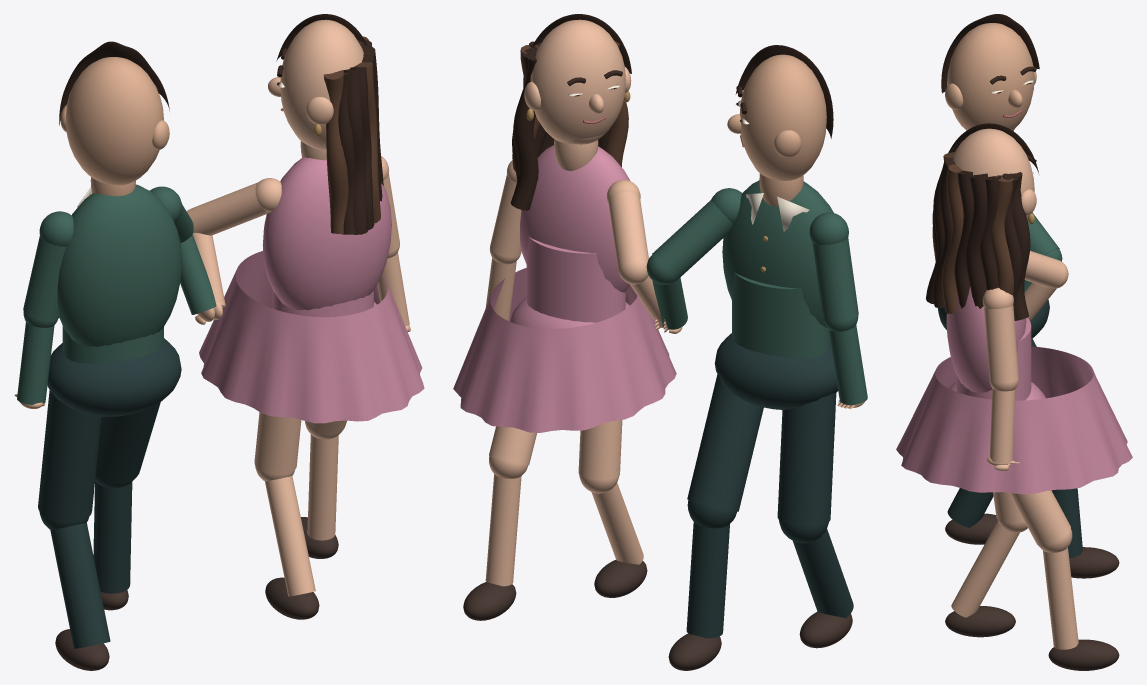
The model's file is walking-cast.glb.
3 views of the same model, side by side, from view 1: azimuth 30°, elevation 25°; view 2: azimuth 150°, elevation 25°; view 3: azimuth 270°, elevation 25° (orthographic). The views are drawn at different scales.
Parts seen in each view (by area): view 1: SF3D_Walk_shahaf_skirt, SF3D_Walk_neria_torso, SF3D_Walk_shahaf_head, SF3D_Walk_shahaf_torso, SF3D_Walk_neria_head, SF3D_Walk_neria_hip, SF3D_Walk_neria_left_thigh, SF3D_Walk_neria_left_shin, SF3D_Walk_neria_right_shin, SF3D_Walk_neria_right_thigh, SF3D_Walk_shahaf_left_shin, SF3D_Walk_shahaf_right_shin (+14 smaller); view 2: SF3D_Walk_shahaf_skirt, SF3D_Walk_shahaf_head, SF3D_Walk_neria_head, SF3D_Walk_neria_torso, SF3D_Walk_shahaf_torso, SF3D_Walk_neria_left_thigh, SF3D_Walk_neria_right_thigh, SF3D_Walk_neria_waist, SF3D_Walk_shahaf_waist, SF3D_Walk_neria_hip, SF3D_Walk_neria_right_shin, SF3D_Walk_shahaf_right_shin (+22 smaller); view 3: SF3D_Walk_shahaf_skirt, SF3D_Walk_shahaf_head, SF3D_Walk_neria_head, SF3D_Walk_shahaf_torso, SF3D_Walk_shahaf_right_shin, SF3D_Walk_shahaf_left_shin, SF3D_Walk_shahaf_right_upper_arm, SF3D_Walk_shahaf_right_thigh, SF3D_Walk_shahaf_right_forearm, SF3D_Walk_shahaf_right_shoe, SF3D_Walk_shahaf_left_shoe, SF3D_Walk_shahaf_waist (+10 smaller).
Boxes of the visible parts, left/top/right/bottom form: SF3D_Walk_shahaf_skirt: left=199, top=251, right=424, bottom=423; SF3D_Walk_neria_torso: left=57, top=177, right=181, bottom=346; SF3D_Walk_shahaf_head: left=268, top=14, right=383, bottom=234; SF3D_Walk_shahaf_torso: left=262, top=141, right=391, bottom=310; SF3D_Walk_neria_head: left=59, top=41, right=169, bottom=185; SF3D_Walk_neria_hip: left=47, top=338, right=181, bottom=416; SF3D_Walk_neria_left_thigh: left=38, top=390, right=101, bottom=522; SF3D_Walk_neria_left_shin: left=50, top=522, right=110, bottom=648; SF3D_Walk_neria_right_shin: left=93, top=481, right=132, bottom=593; SF3D_Walk_neria_right_thigh: left=95, top=402, right=160, bottom=483; SF3D_Walk_shahaf_left_shin: left=265, top=476, right=315, bottom=596; SF3D_Walk_shahaf_right_shin: left=307, top=434, right=338, bottom=540; SF3D_Walk_shahaf_skirt: left=453, top=268, right=676, bottom=432; SF3D_Walk_shahaf_head: left=510, top=14, right=631, bottom=210; SF3D_Walk_neria_head: left=727, top=45, right=833, bottom=180; SF3D_Walk_neria_torso: left=722, top=173, right=833, bottom=327; SF3D_Walk_shahaf_torso: left=520, top=139, right=630, bottom=292; SF3D_Walk_neria_left_thigh: left=777, top=393, right=836, bottom=526; SF3D_Walk_neria_right_thigh: left=687, top=374, right=763, bottom=511; SF3D_Walk_neria_waist: left=732, top=272, right=830, bottom=358; SF3D_Walk_shahaf_waist: left=526, top=237, right=625, bottom=322; SF3D_Walk_neria_hip: left=714, top=333, right=838, bottom=409; SF3D_Walk_neria_right_shin: left=686, top=522, right=729, bottom=638; SF3D_Walk_shahaf_right_shin: left=485, top=474, right=521, bottom=586; SF3D_Walk_shahaf_skirt: left=896, top=346, right=1132, bottom=494; SF3D_Walk_shahaf_head: left=926, top=123, right=1038, bottom=320; SF3D_Walk_neria_head: left=941, top=14, right=1039, bottom=130; SF3D_Walk_shahaf_torso: left=946, top=287, right=1026, bottom=392; SF3D_Walk_shahaf_right_shin: left=1043, top=547, right=1078, bottom=649; SF3D_Walk_shahaf_left_shin: left=951, top=520, right=1019, bottom=617; SF3D_Walk_shahaf_right_upper_arm: left=984, top=305, right=1018, bottom=382; SF3D_Walk_shahaf_right_thigh: left=1009, top=490, right=1070, bottom=546; SF3D_Walk_shahaf_right_forearm: left=990, top=388, right=1015, bottom=462; SF3D_Walk_shahaf_right_shoe: left=1048, top=639, right=1119, bottom=670; SF3D_Walk_shahaf_left_shoe: left=945, top=606, right=1015, bottom=637; SF3D_Walk_shahaf_waist: left=956, top=317, right=1031, bottom=400.
Bounding box in the file's own units: 1.39 × 2.03 × 0.801.
